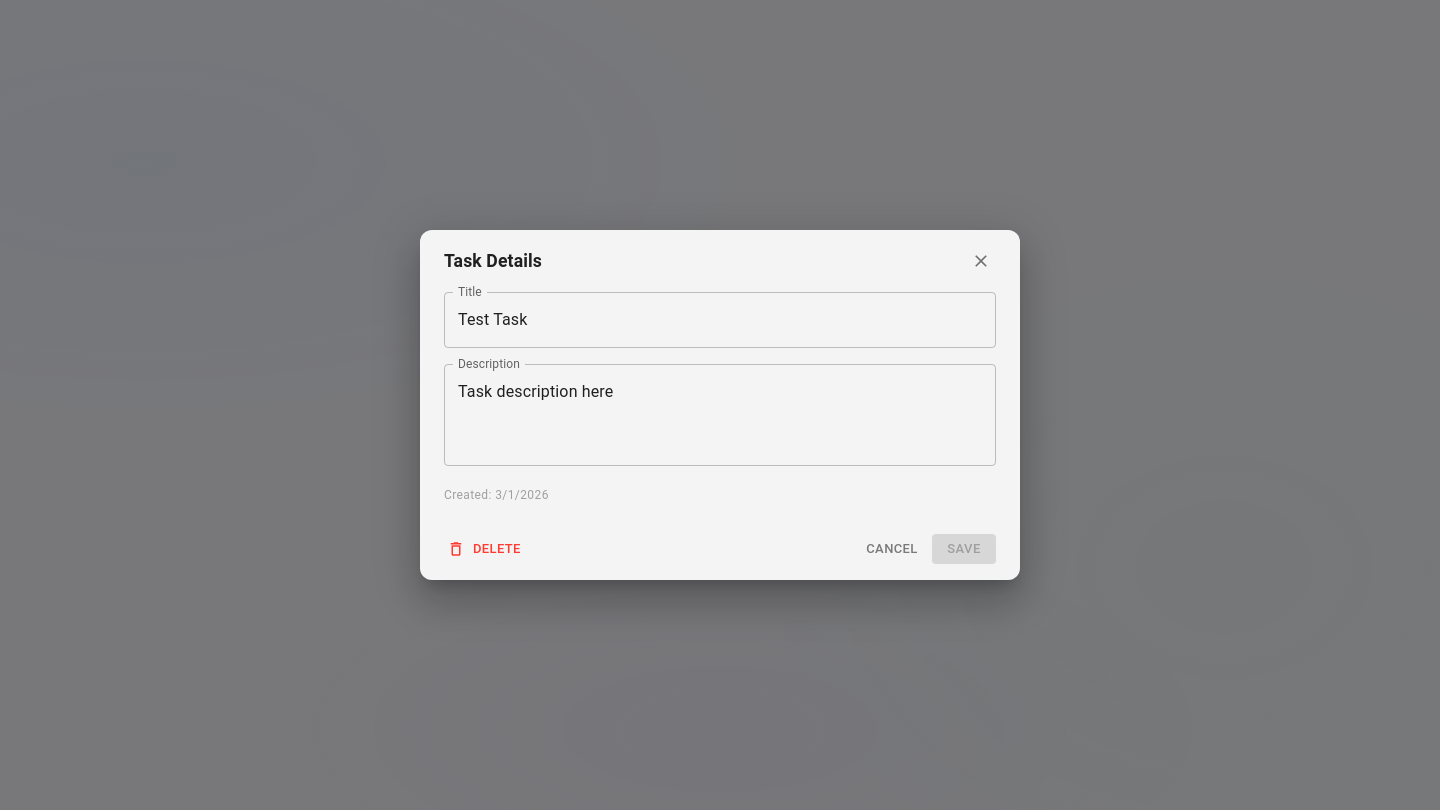
TaskDetailModal › enables Save when title changes
Replace the text in the field showing "Test Task" with "Updated Title" at [720, 320], box [444,292,996,348]
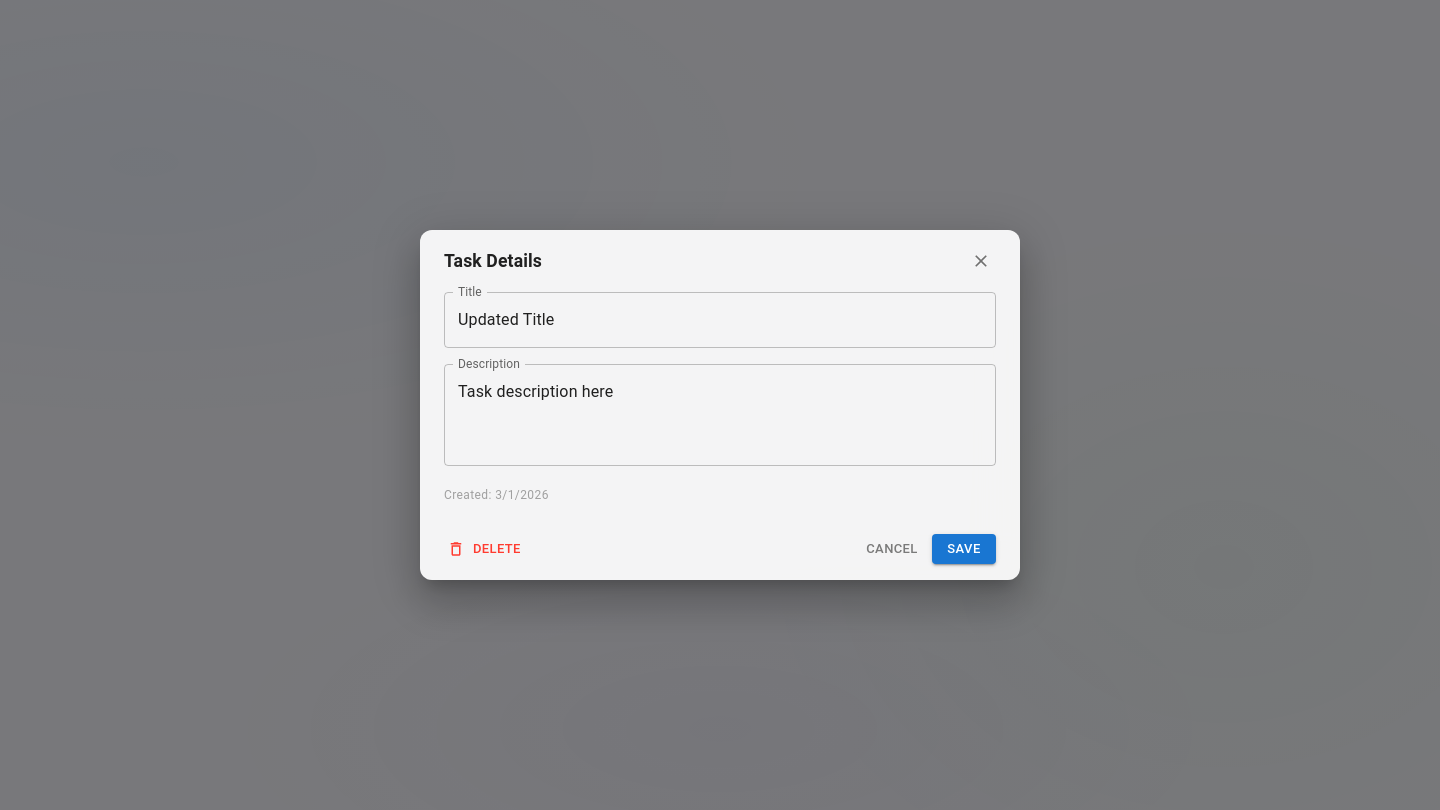
expect the button "Save" is enabled: met, box [932,534,996,564]
